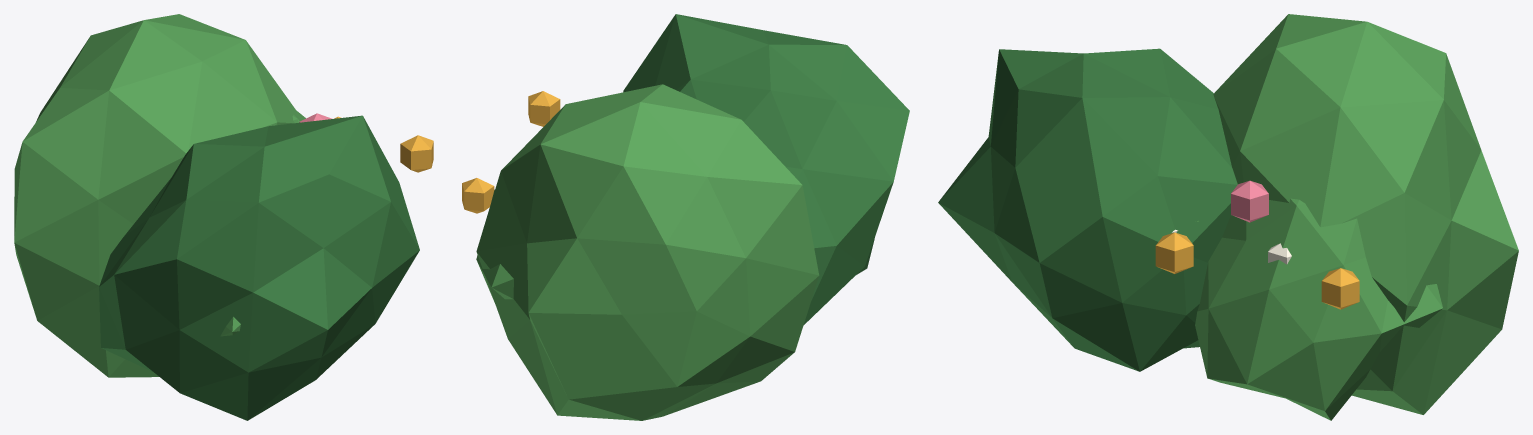
Rendered from bush-flowering.glb.
The picture shows the model from 3 angles, left to right: view 1: azimuth 30°, elevation 25°; view 2: azimuth 150°, elevation 25°; view 3: azimuth 270°, elevation 25°; orthographic projection. The views are drawn at different scales.
Parts seen in each view (by area): view 1: bush; view 2: bush; view 3: bush.
Boxes of the visible parts, box(x1,y1,x2,y2) form: bush: box(14, 14, 433, 420); bush: box(462, 14, 909, 420); bush: box(938, 14, 1518, 420).
Bounding box in the file's own units: 1.81 × 1.6 × 2.27.
